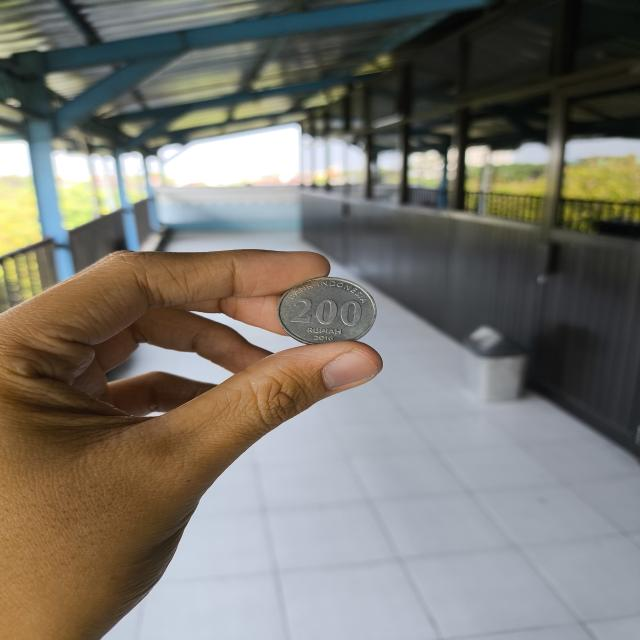1000-sawit: (278, 278, 376, 345)
